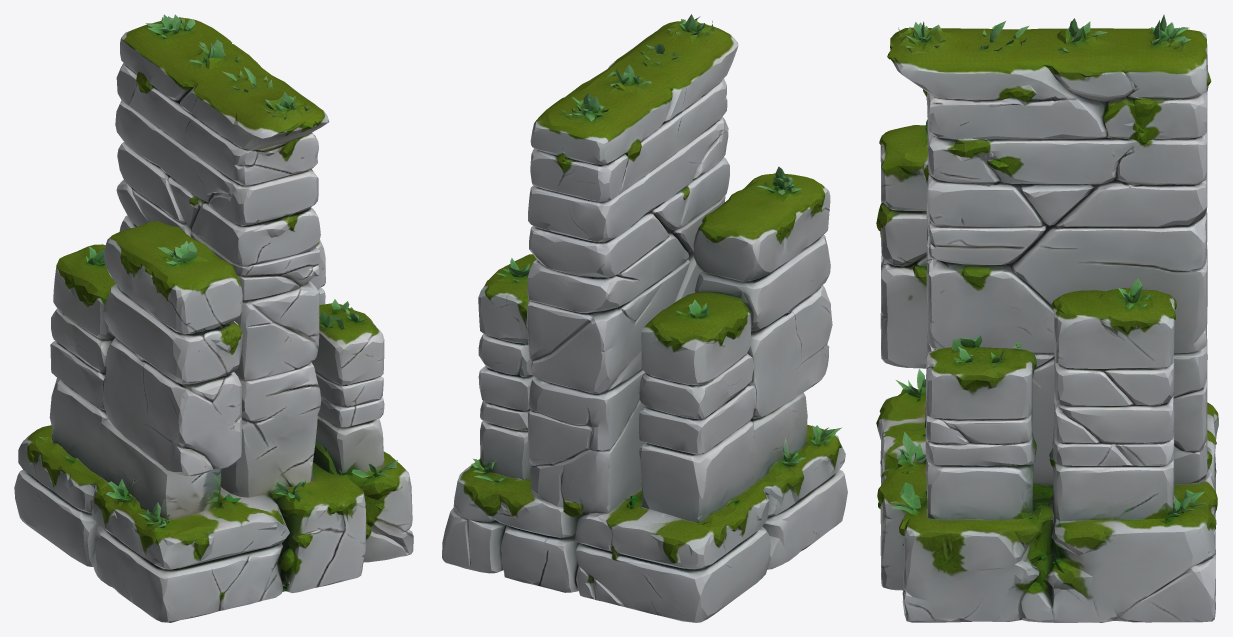
File: mossy-cliff.glb
3 renders of one model, left to right at view 1: azimuth 30°, elevation 25°; view 2: azimuth 150°, elevation 25°; view 3: azimuth 270°, elevation 25°, orthographic. The views are drawn at different scales.
Parts seen in each view (by area): view 1: Mesh; view 2: Mesh; view 3: Mesh.
Part boxes in pixels (left/top/right/bottom): Mesh: left=14, top=14, right=413, bottom=622; Mesh: left=442, top=14, right=847, bottom=622; Mesh: left=876, top=14, right=1218, bottom=622.
Size of the model in its own units: 1.07 by 1.86 by 1.07.
1 material, 1 textured.
